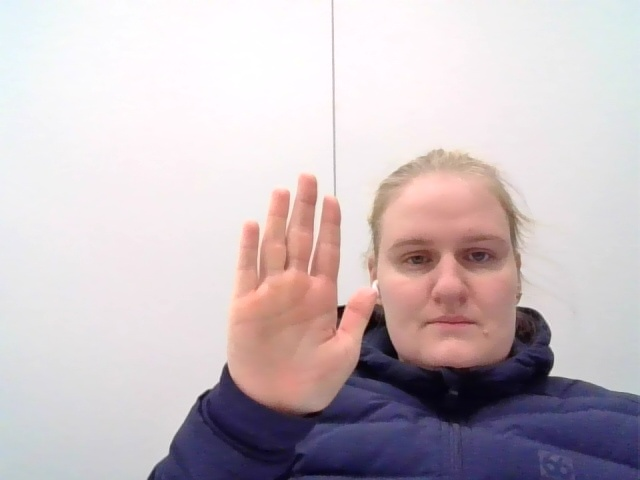nada: (191, 160, 383, 429)
